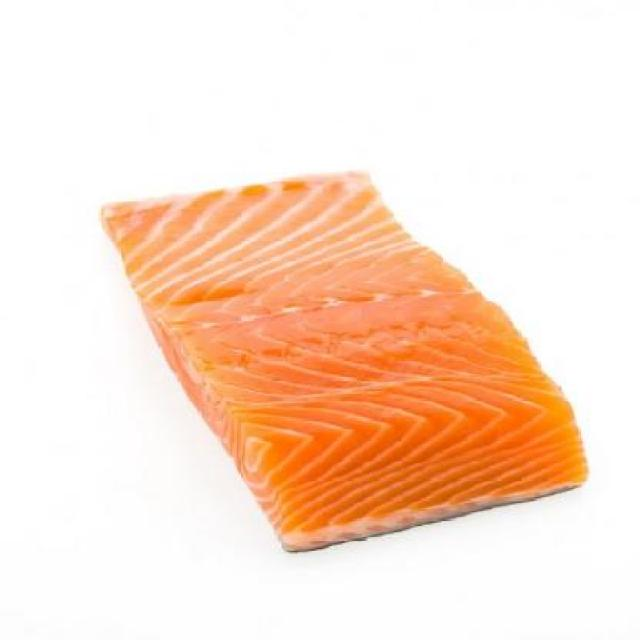salmon: (79, 158, 602, 558)
